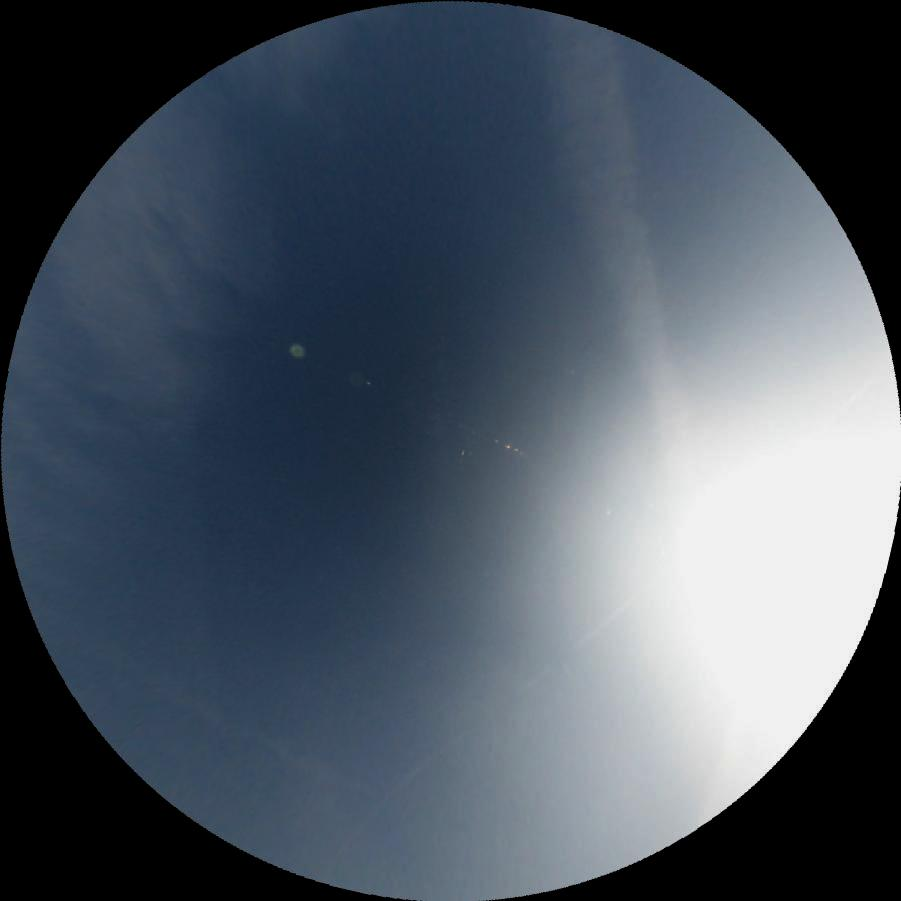contrail veryold: (532, 0, 701, 468)
contrail young: (303, 563, 659, 884)
sun: (647, 404, 901, 734)
